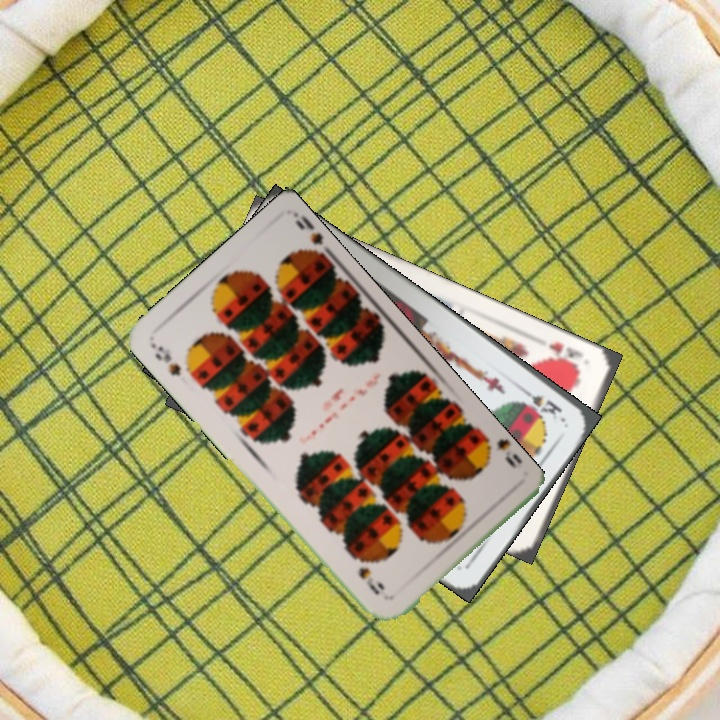HK: (543, 338, 587, 373)
S9: (473, 432, 524, 471), (147, 340, 184, 379)
SK: (516, 382, 565, 422)
